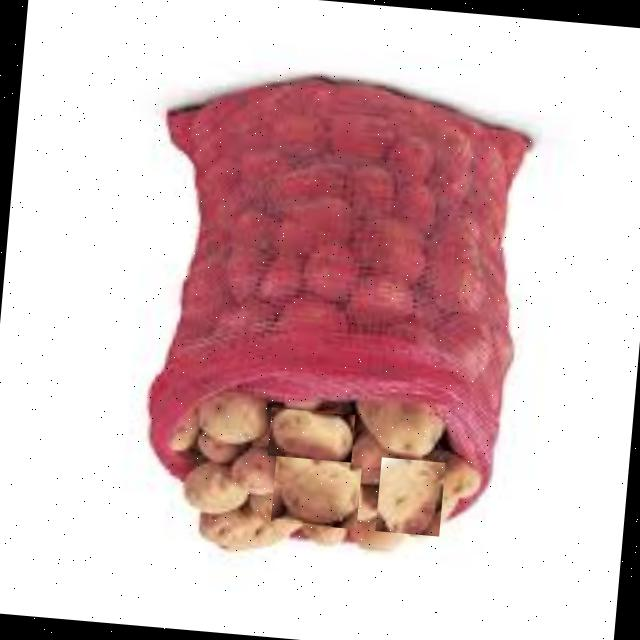Diseased-fungal potato: (269, 450, 361, 528), (374, 456, 444, 535), (266, 406, 354, 461), (178, 456, 252, 518), (194, 390, 268, 440)
